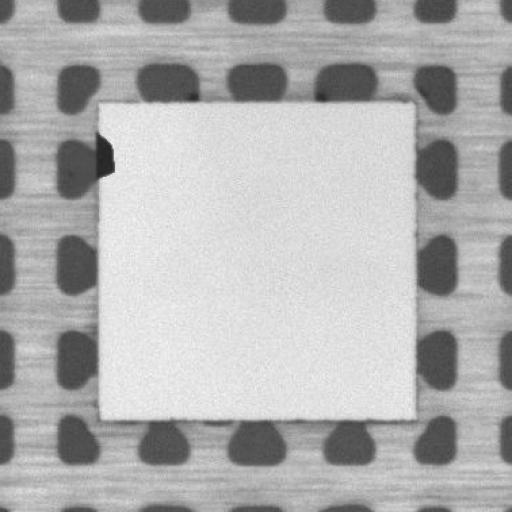DIE_BROKEN: (91, 127, 116, 182)
